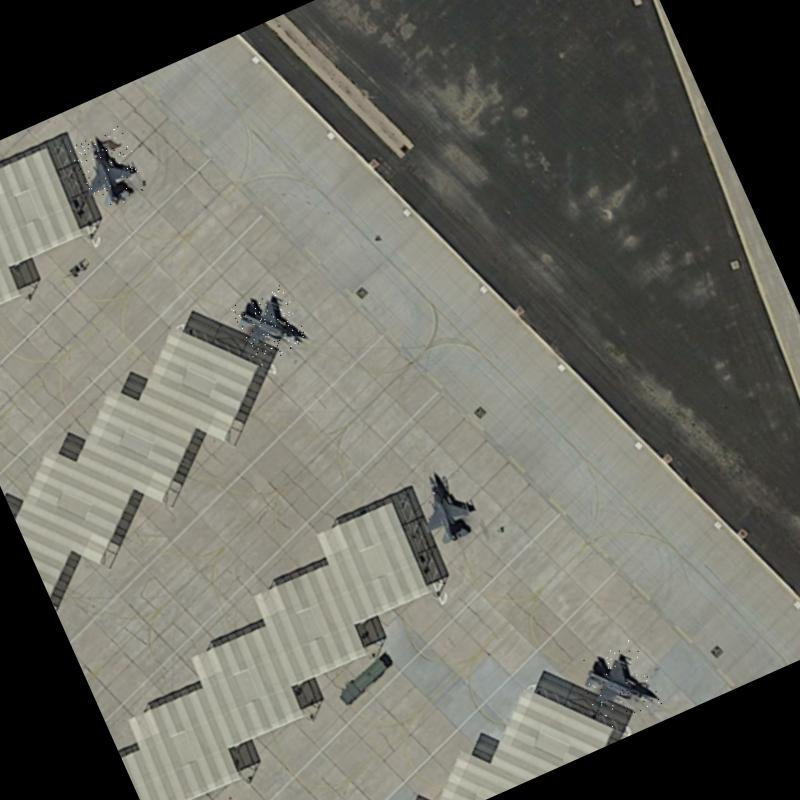A5: (574, 637, 664, 731), (404, 458, 488, 552), (68, 124, 150, 214), (231, 284, 310, 368)
